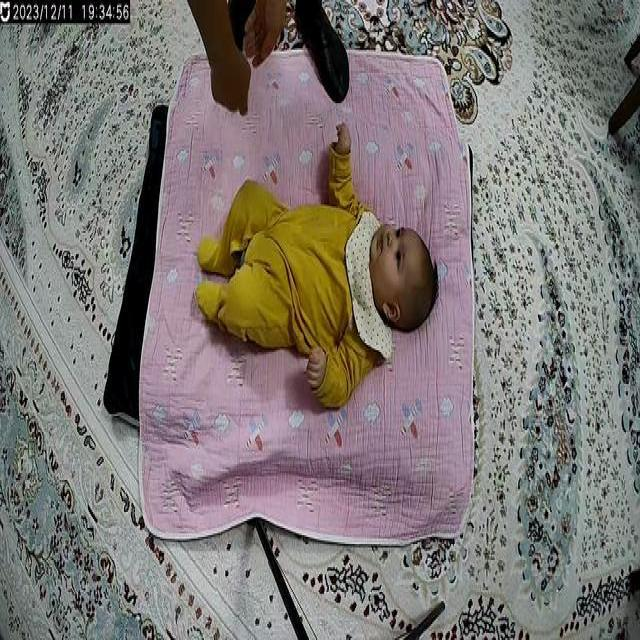baby: (194, 118, 439, 413)
